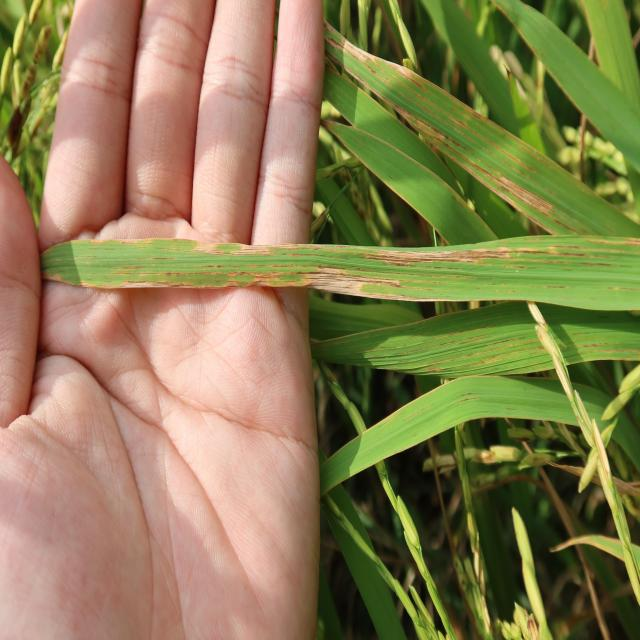Dom soc vi khuan: (40, 237, 640, 311), (325, 17, 561, 186), (381, 91, 590, 235)
